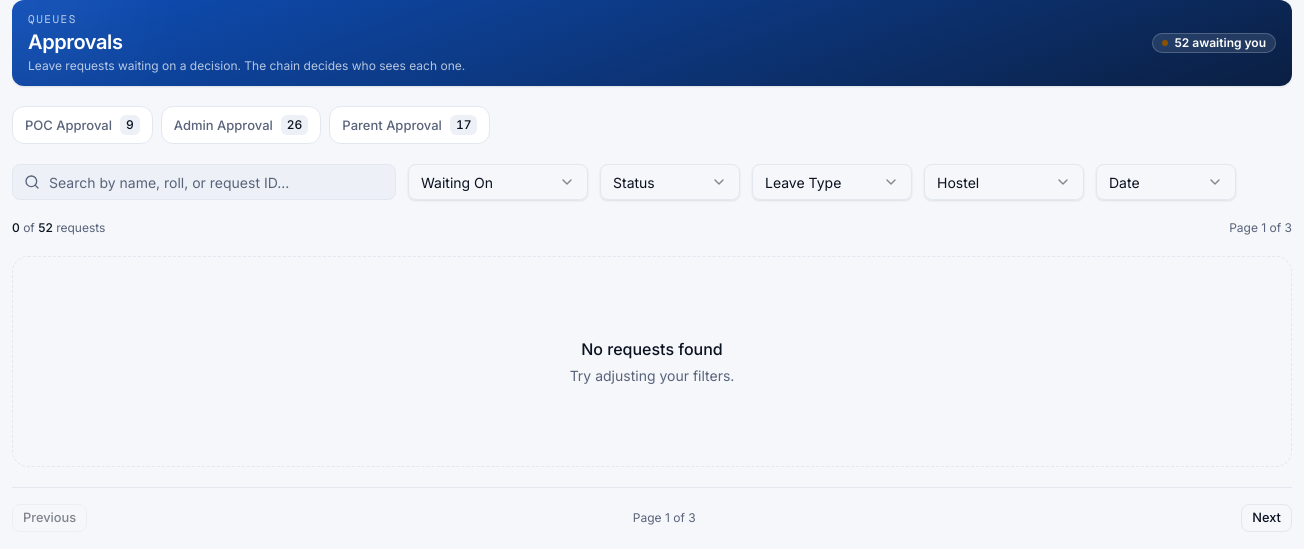
Test case: ApprovalsPage waiting-on filter › offers every step in the breakdown
Press the mouse on the dropdown "Waiting On" at [498, 182], box 408,164 -> 588,200
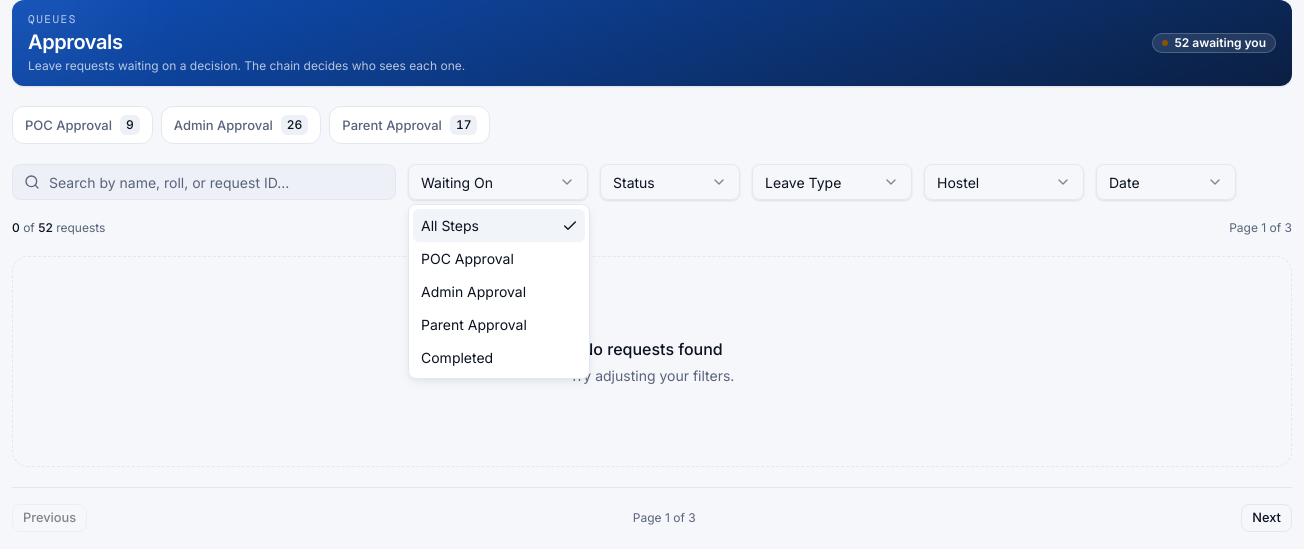
Expected: the options read "All Steps", "POC Approval", "Admin Approval", "Parent Approval", "Completed", in this order, 413,209 -> 585,242; 421,250 -> 514,267; 421,283 -> 526,300; 421,316 -> 527,333; 421,349 -> 493,366
